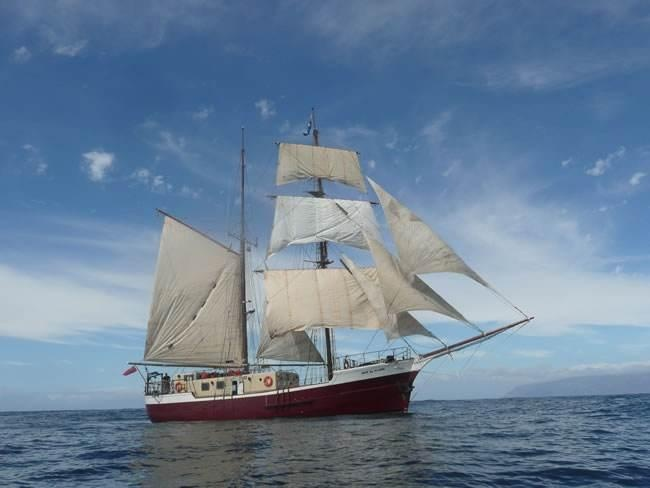fanchuan: (142, 107, 536, 426)
